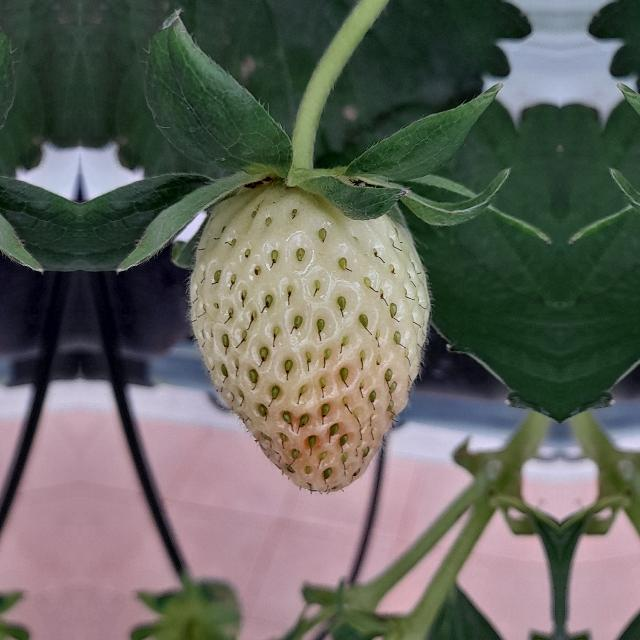Health_50: (190, 184, 430, 492)
